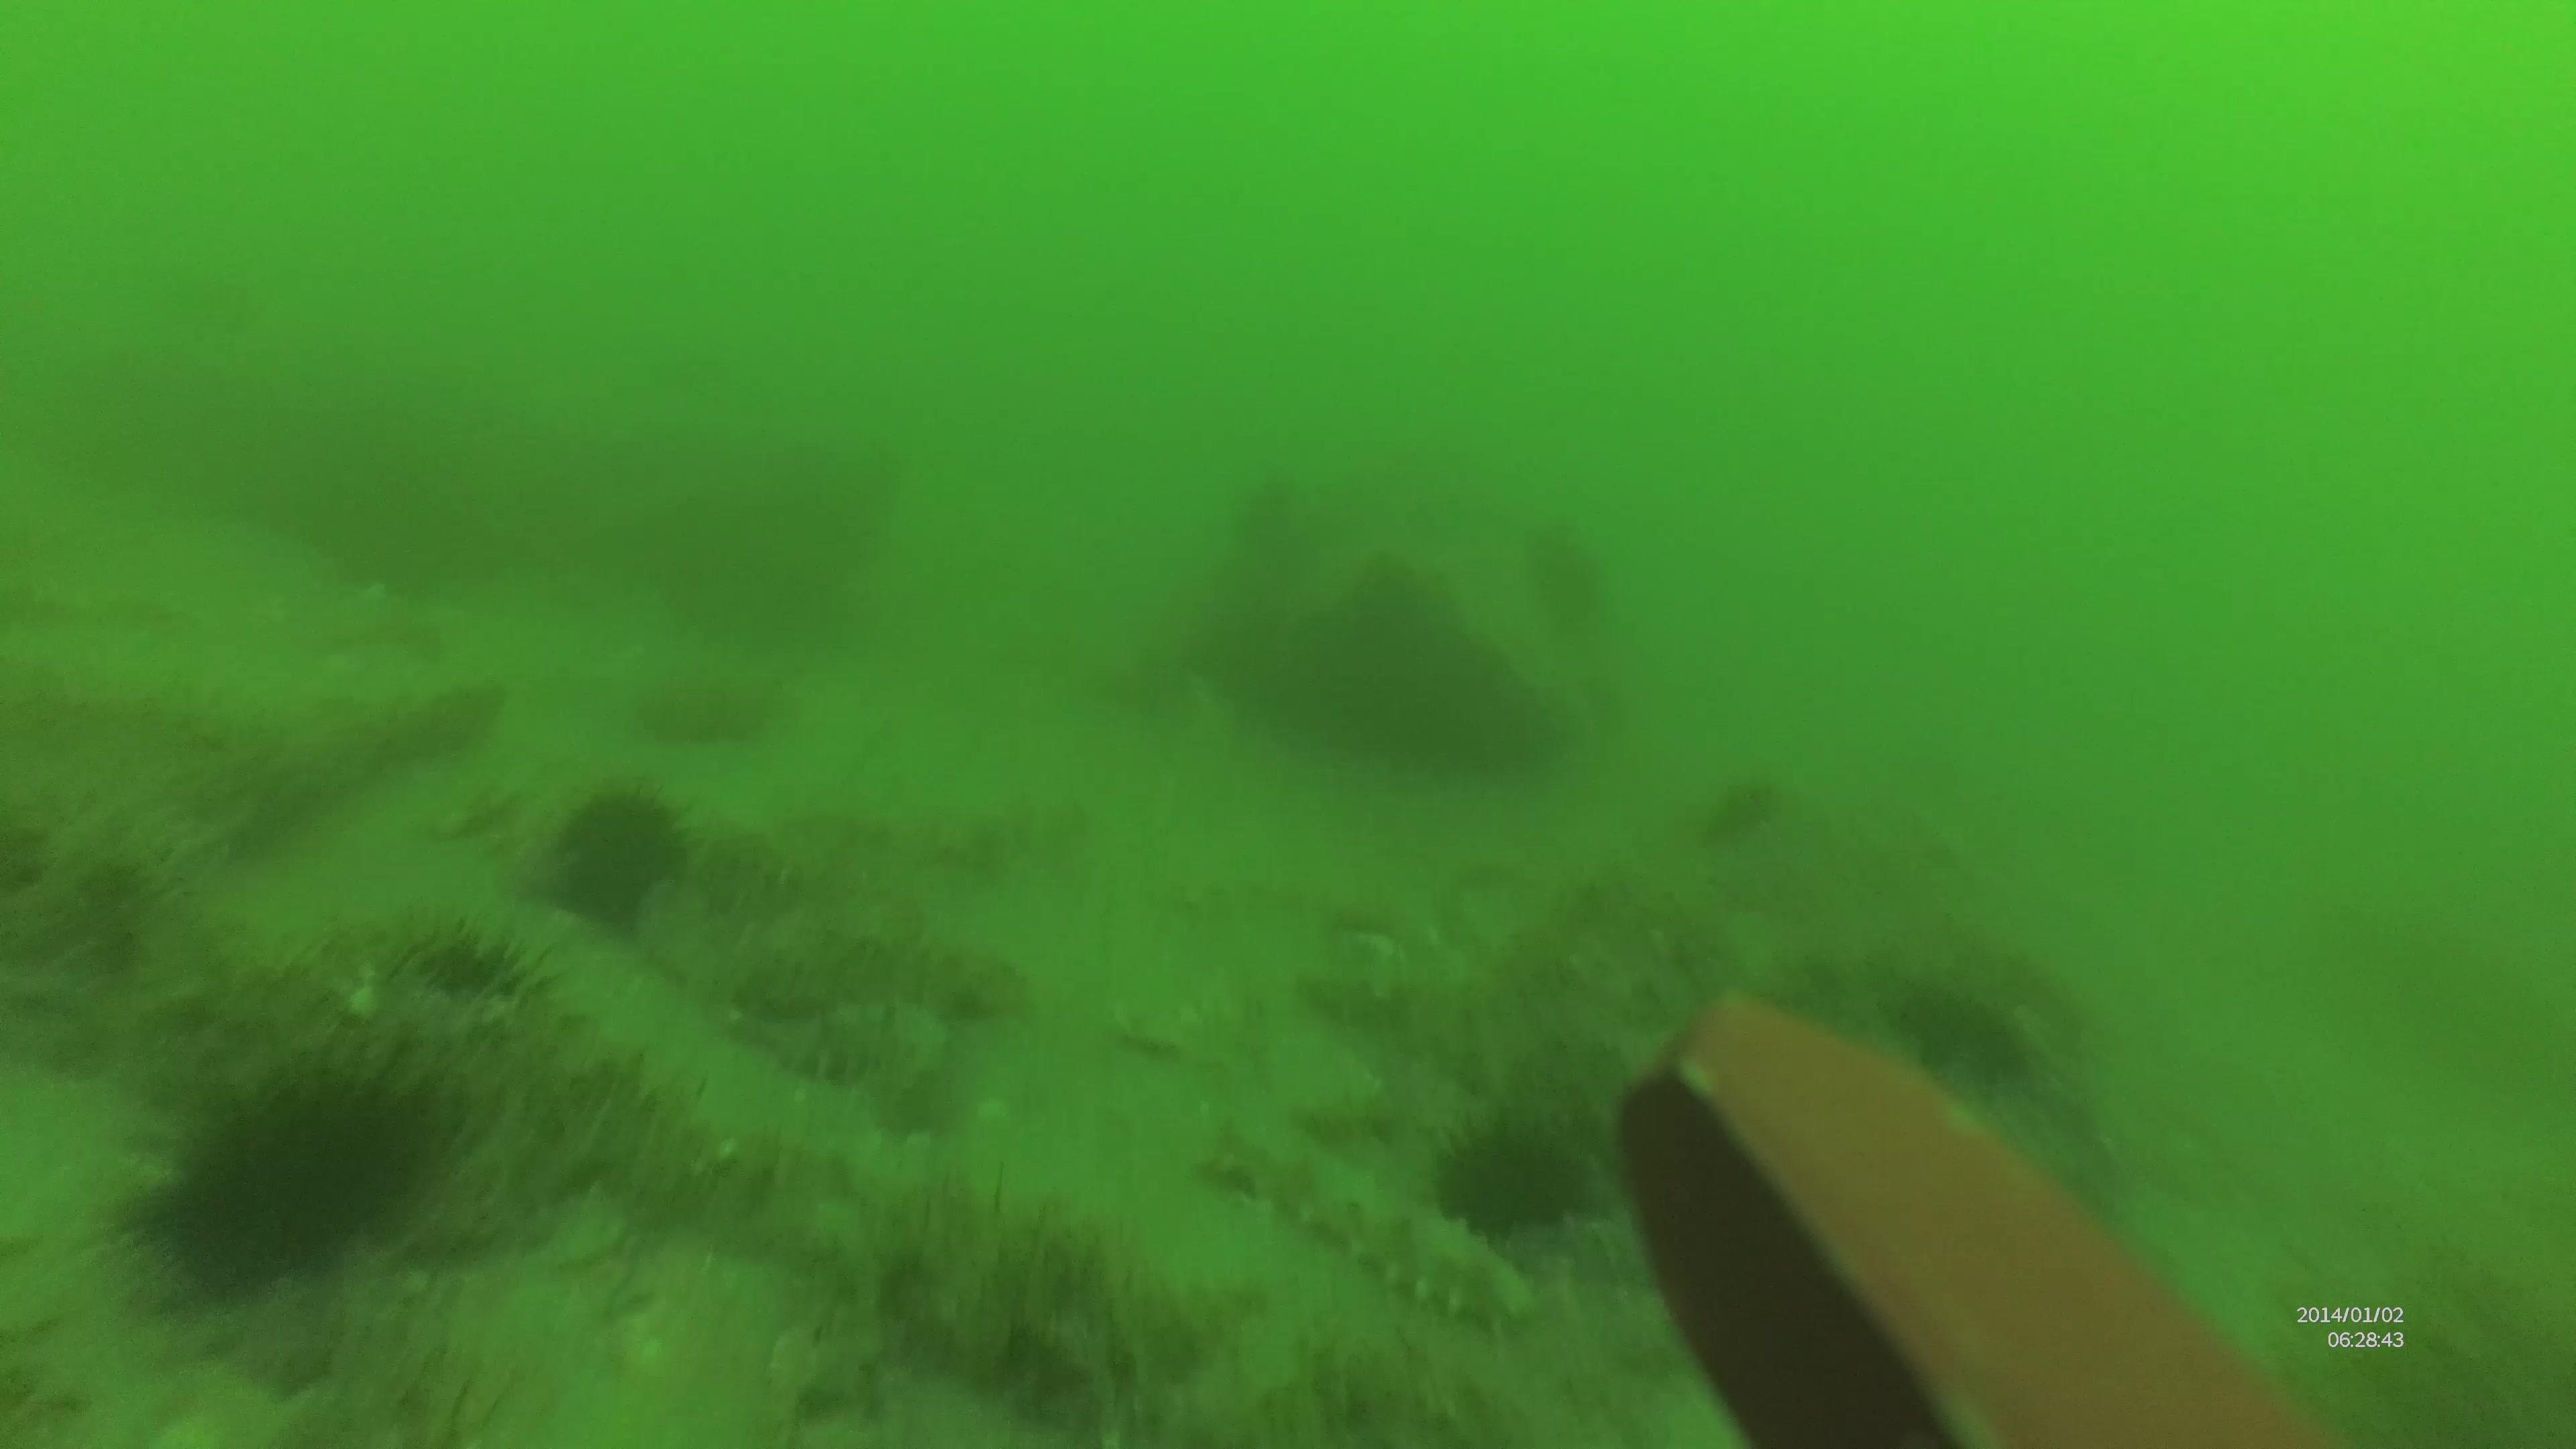echinus: (138, 1067, 460, 1315), (1440, 1108, 1601, 1244), (557, 780, 692, 938), (410, 904, 564, 1008), (1902, 975, 2031, 1099)
holothurian: (1221, 1111, 1534, 1327), (775, 1005, 959, 1127)
